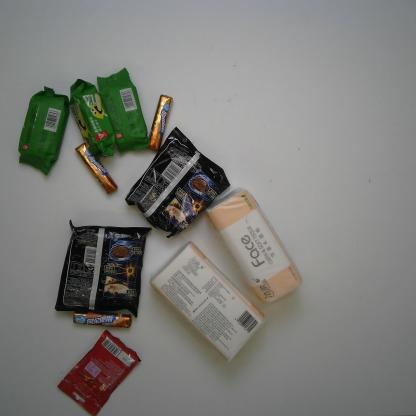Candy: (56, 329, 142, 416), (74, 142, 118, 195), (148, 94, 174, 152), (72, 311, 134, 329)
Dessert: (17, 85, 70, 178), (96, 67, 150, 155), (68, 78, 116, 160)
Instant Noodles: (123, 125, 231, 241), (53, 218, 152, 319)
Tissue: (148, 241, 268, 364), (205, 185, 304, 304)
